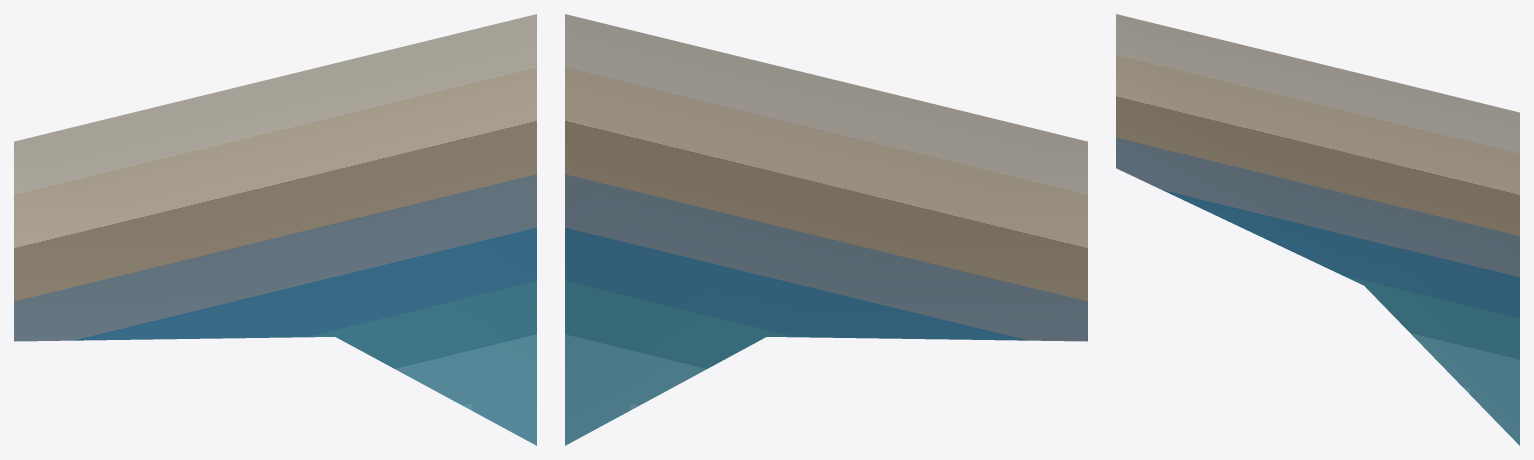
3 renders of one model, left to right at view 1: azimuth 30°, elevation 25°; view 2: azimuth 150°, elevation 25°; view 3: azimuth 330°, elevation 25°, orthographic. The views are drawn at different scales.
Bounding box in the file's own units: 1 × 0.7893 × 0.
Materials: 1 (1 with a texture image).
